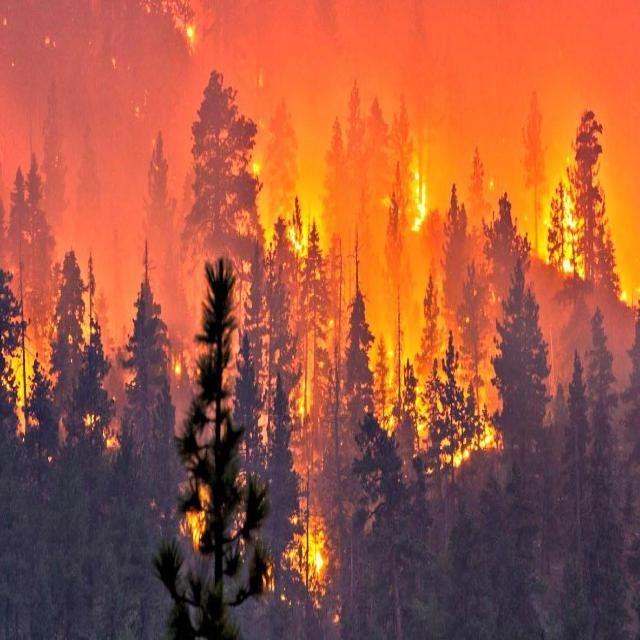Fire: (245, 106, 637, 290), (368, 348, 506, 462), (278, 480, 339, 596)
